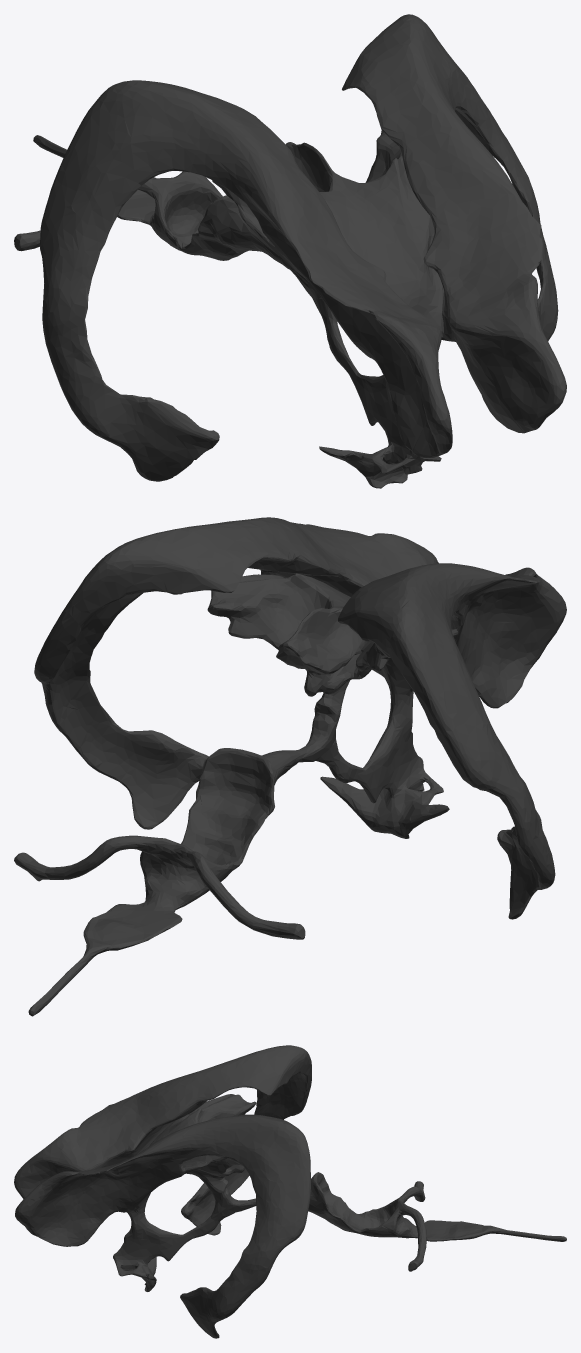
Rendered from Ventricles_low_Ventricles_low.glb.
The picture shows the model from 3 angles, top to bottom: view 1: azimuth 30°, elevation 25°; view 2: azimuth 150°, elevation 25°; view 3: azimuth 270°, elevation 25°; orthographic projection. The views are drawn at different scales.
Parts seen in each view (by area): view 1: Ventricles_low_Ventricles_low; view 2: Ventricles_low_Ventricles_low; view 3: Ventricles_low_Ventricles_low.
Part boxes in pixels (left/top/right/bottom): Ventricles_low_Ventricles_low: left=14, top=14, right=566, bottom=488; Ventricles_low_Ventricles_low: left=14, top=517, right=566, bottom=1016; Ventricles_low_Ventricles_low: left=14, top=1045, right=566, bottom=1338.
Bounding box in the file's own units: 44.79 × 30.89 × 75.51.
1 material, 1 textured.
